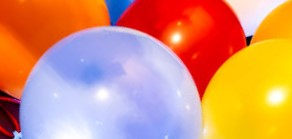Balloon: (17, 24, 199, 139), (203, 39, 292, 139)
